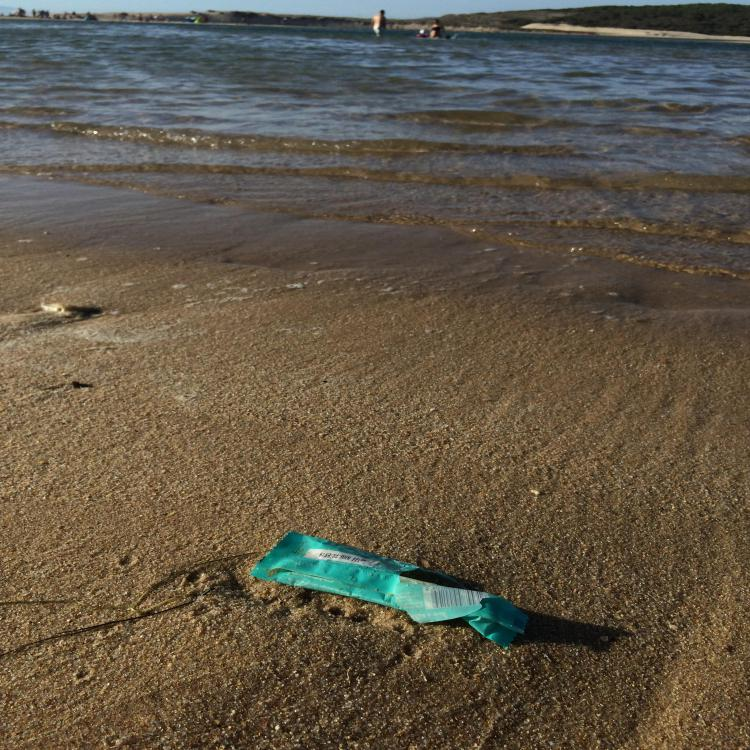Other plastic: (249, 530, 527, 649)
